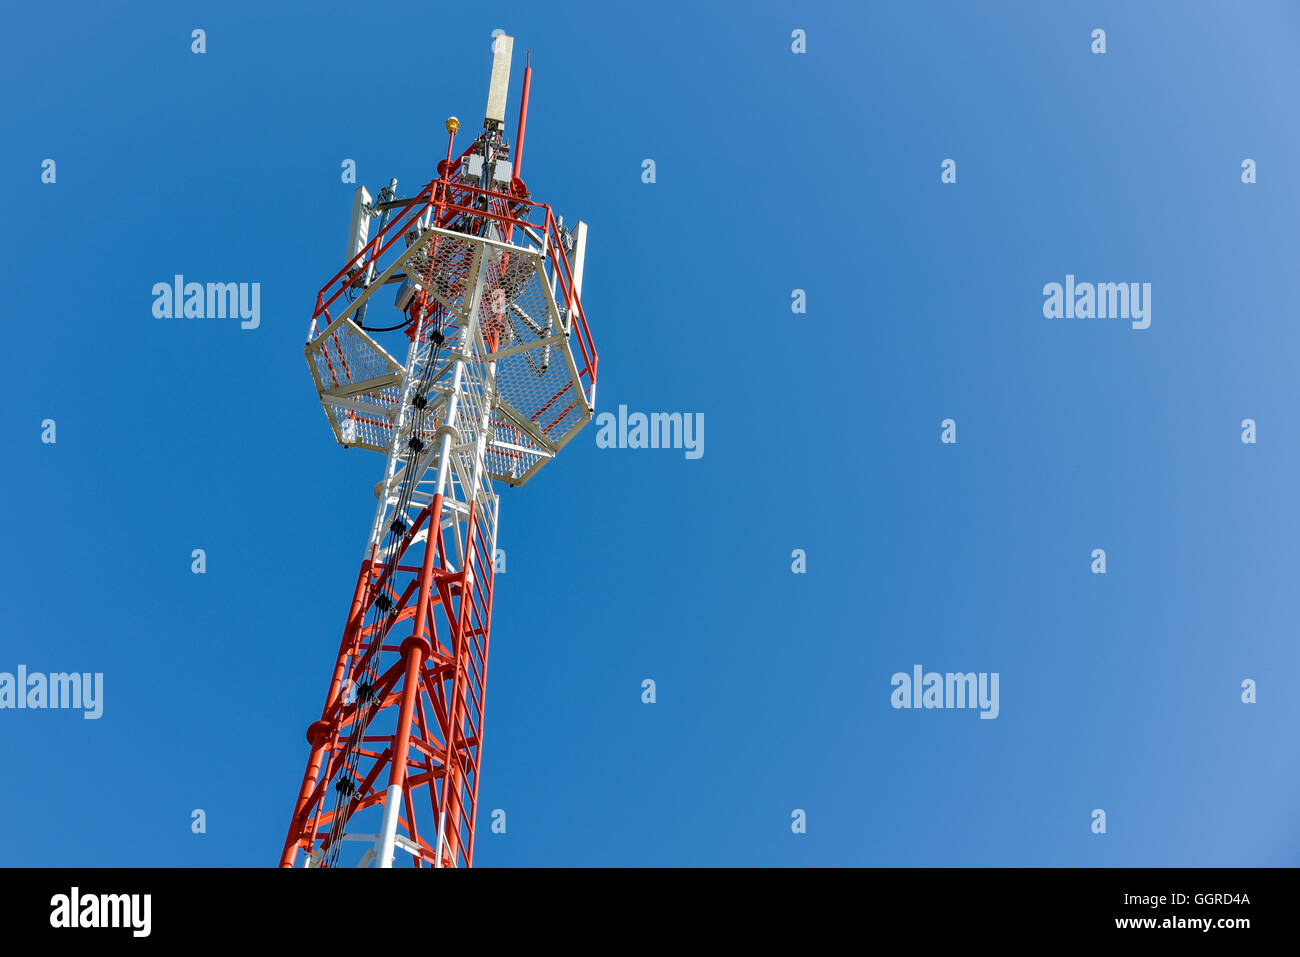sa: (561, 197, 613, 358), (347, 165, 376, 284), (484, 31, 511, 136)
